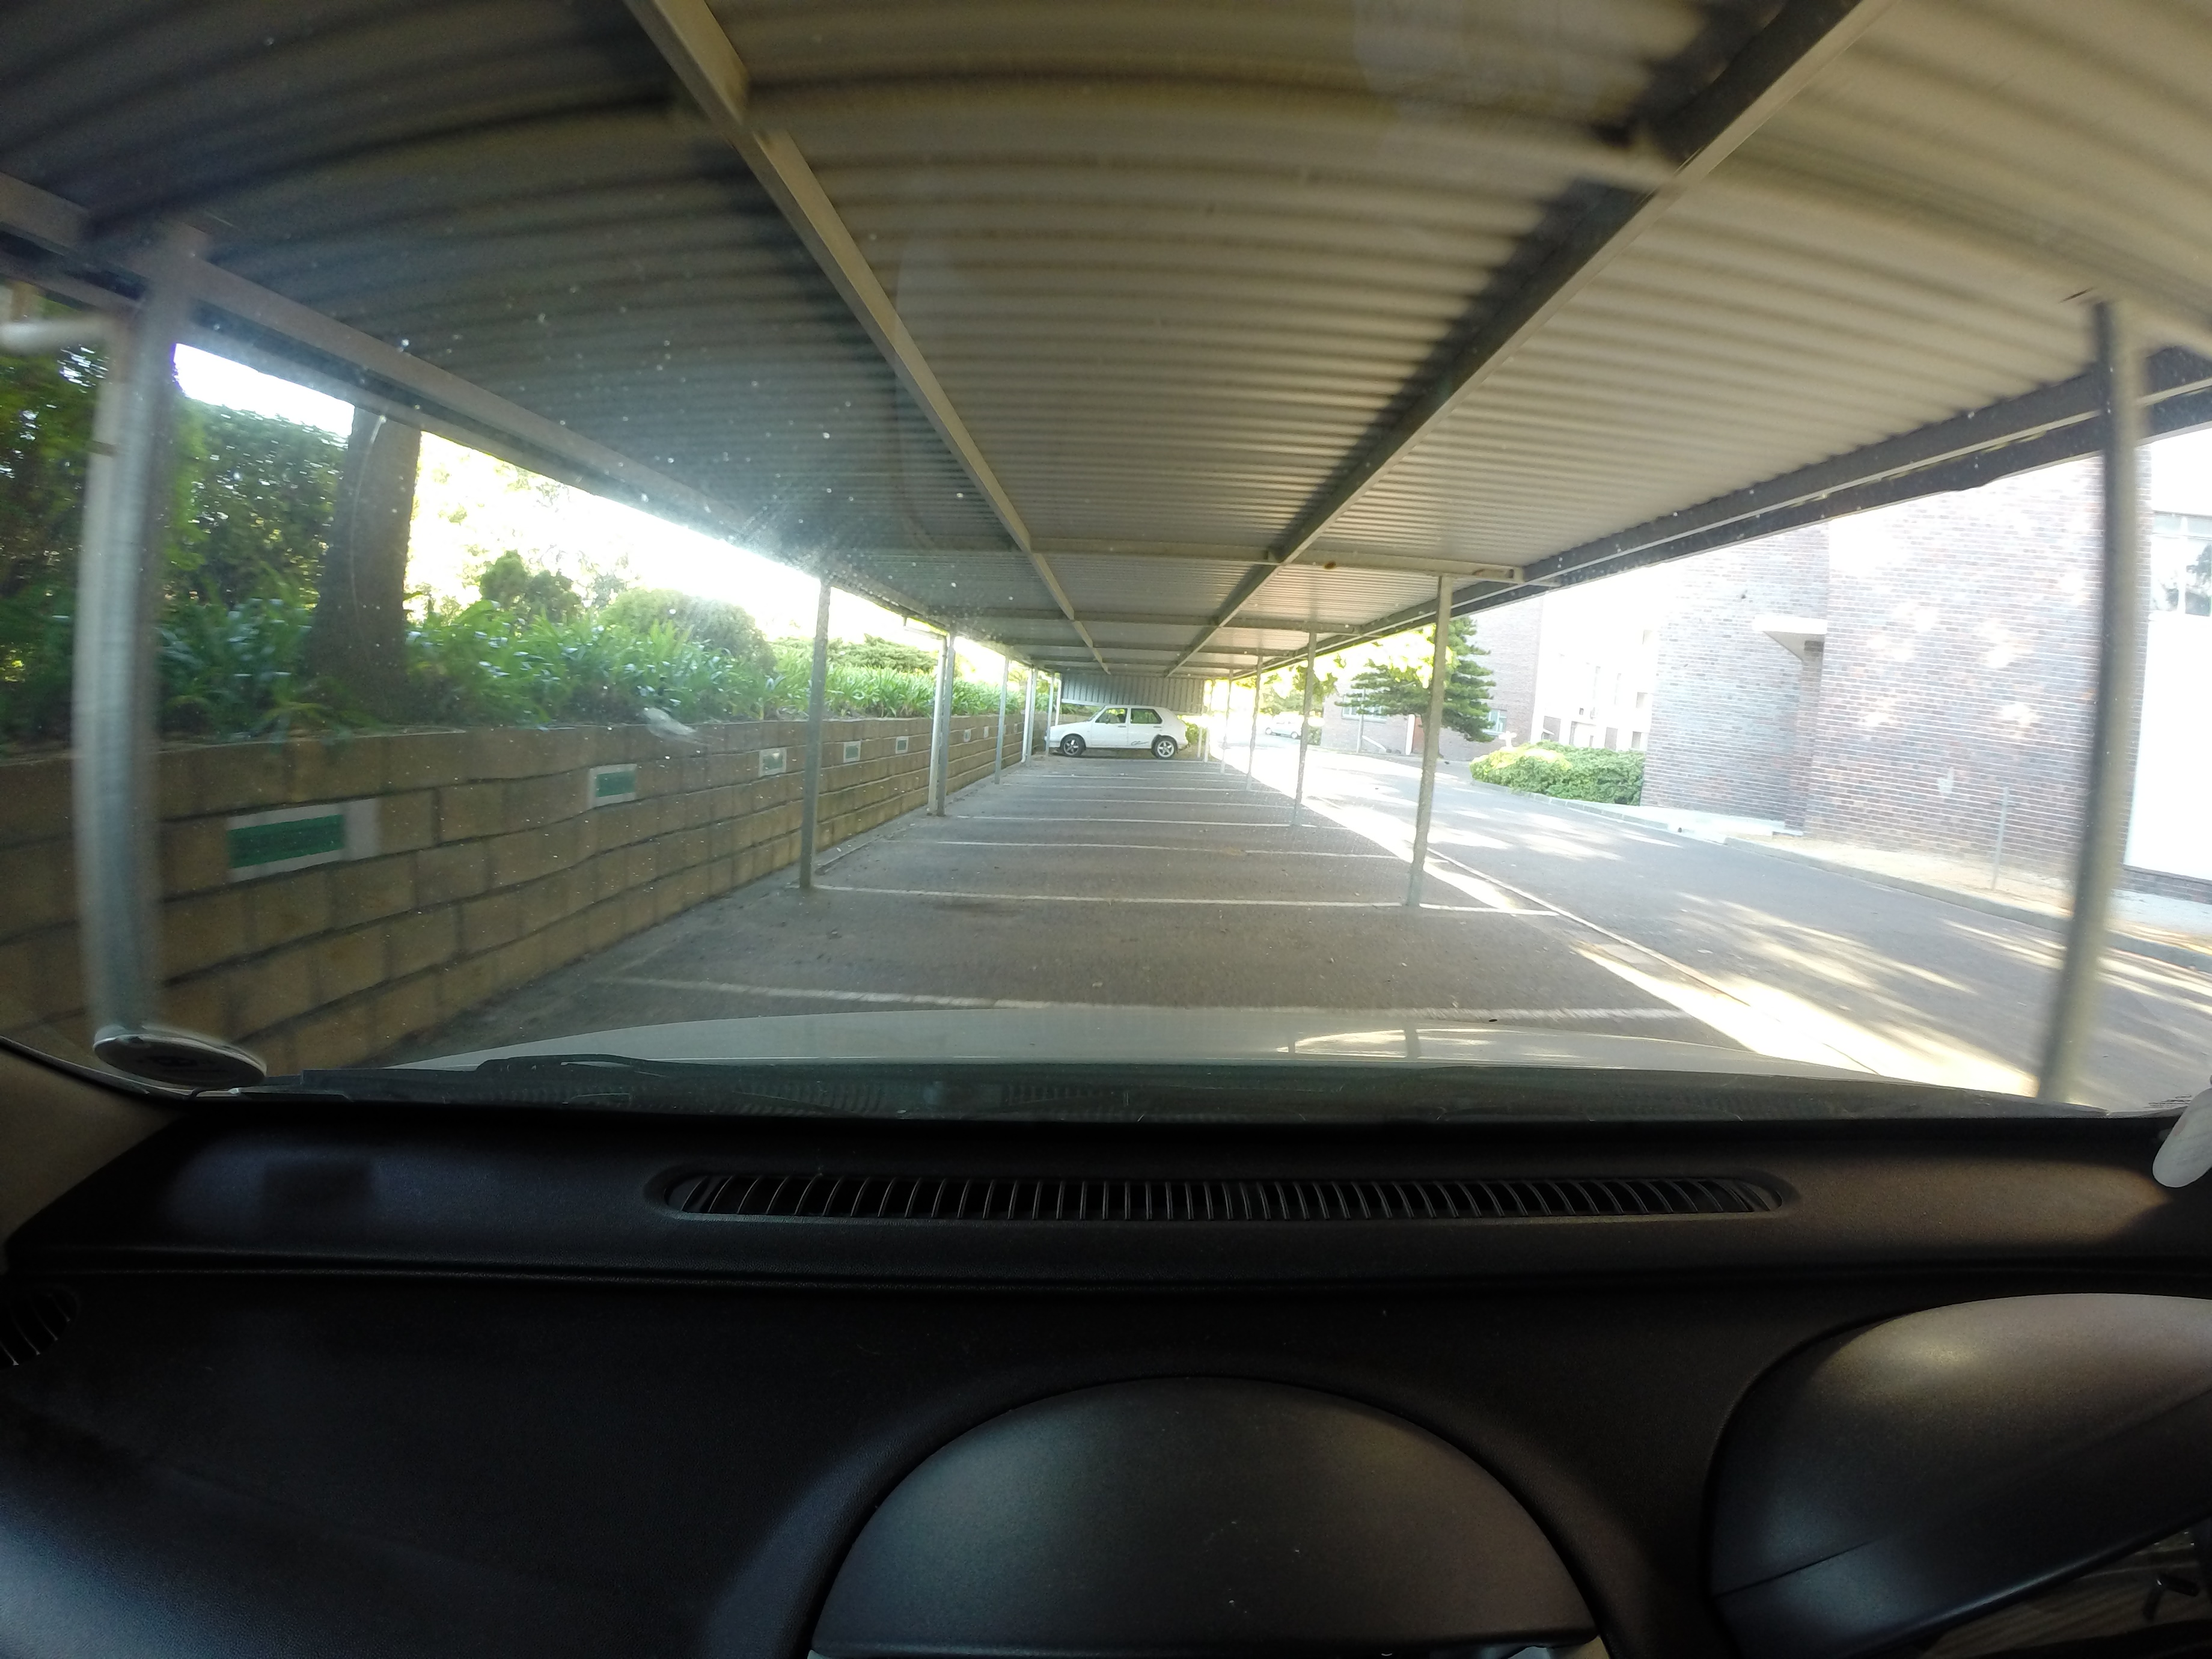pothole: (1197, 847, 1259, 861)
